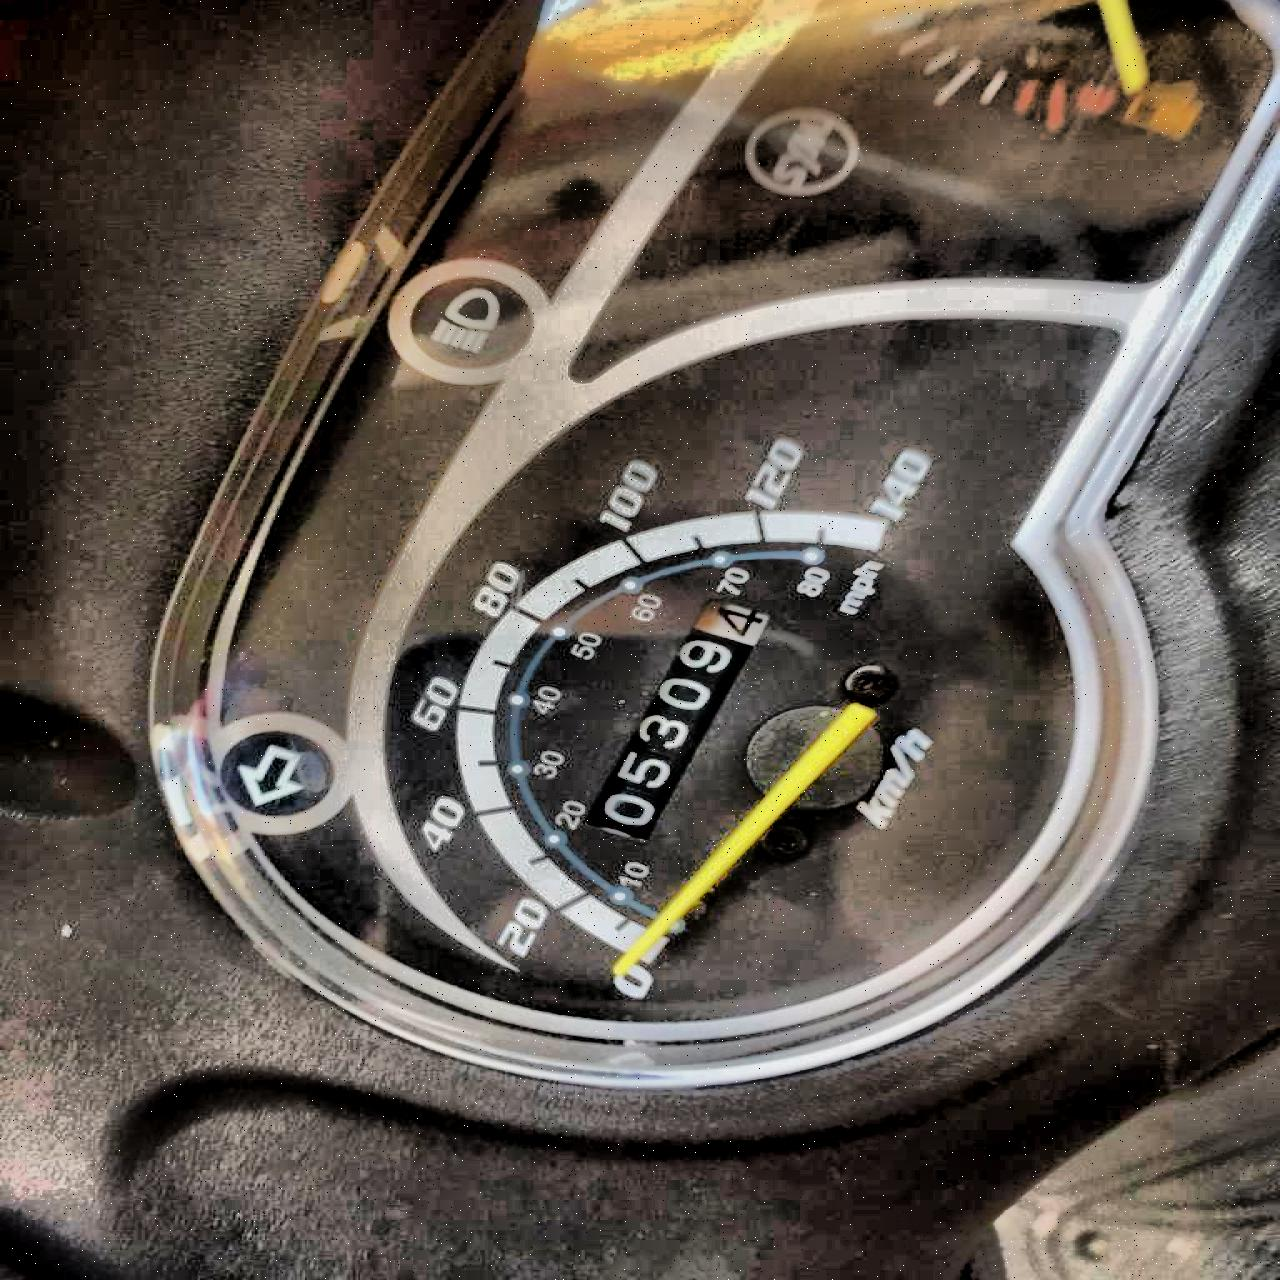0: (598, 790, 655, 826), (653, 675, 712, 710), (573, 628, 601, 646), (635, 592, 663, 608), (573, 798, 585, 816)
3: (633, 714, 688, 749)
4: (712, 602, 763, 638)
5: (614, 750, 668, 789), (572, 644, 595, 662)
6: (627, 605, 653, 621)
9: (675, 638, 731, 674)
odometer: (570, 592, 778, 846)
